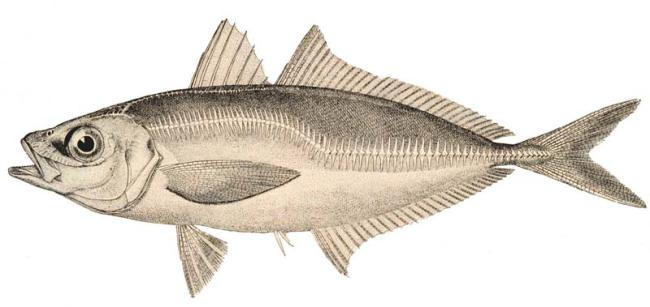fish: (8, 16, 647, 299)
